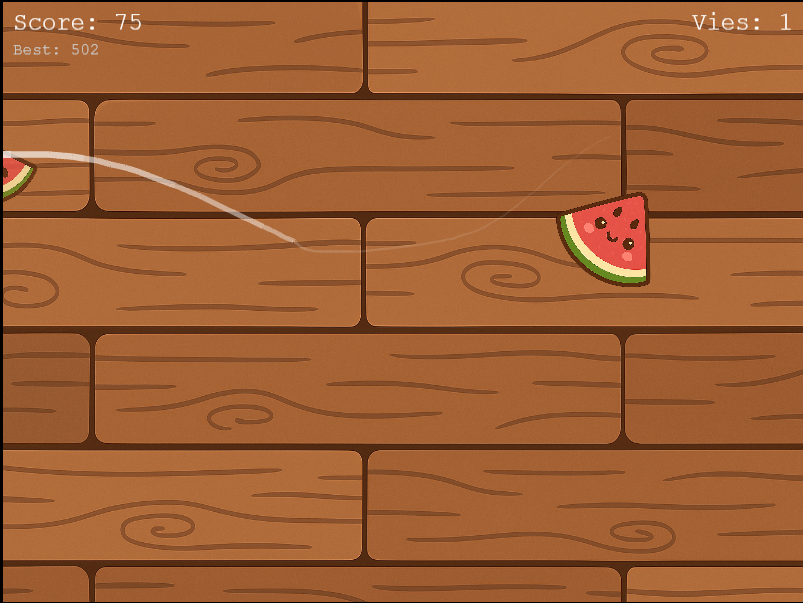fruit: (546, 176, 668, 298)
